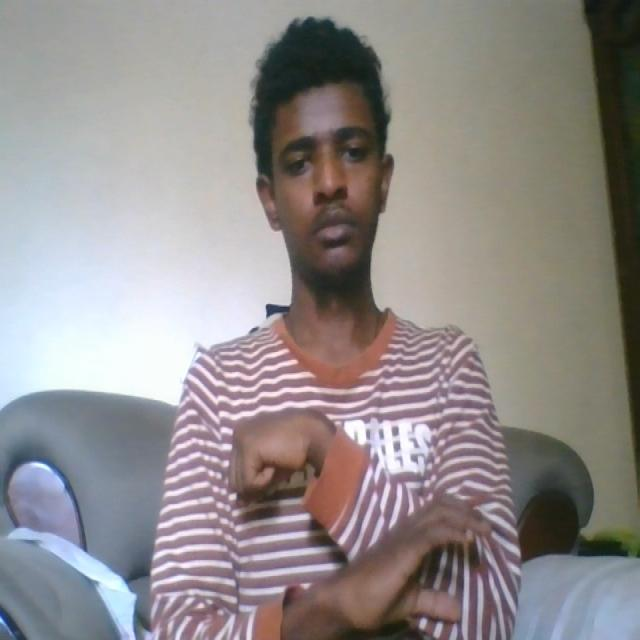hager: (226, 404, 497, 640)
